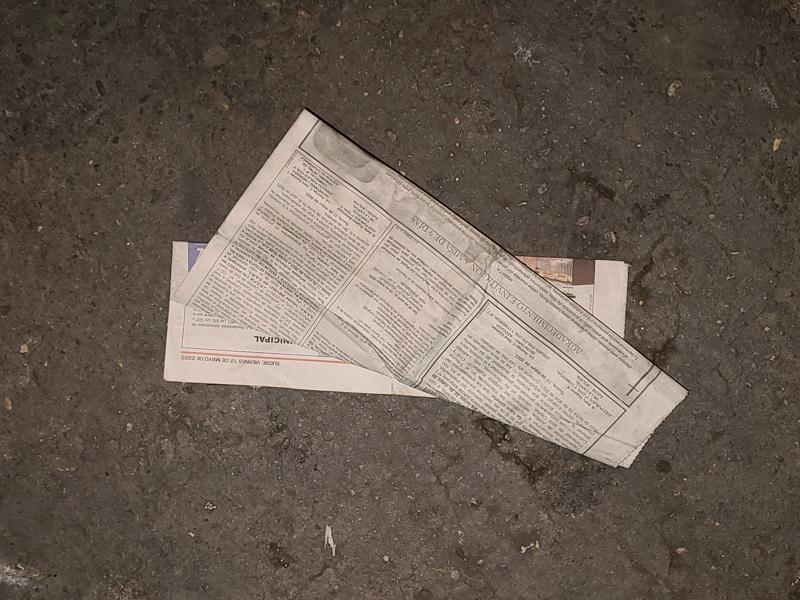papel: (163, 111, 689, 470)
